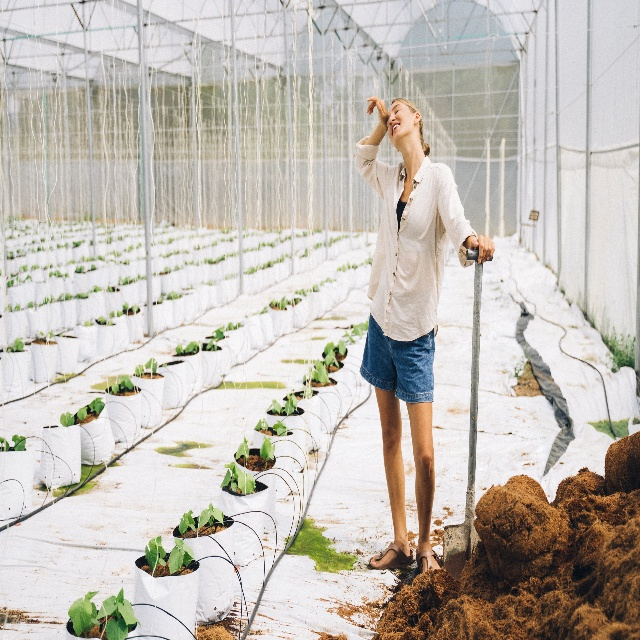Sin_guantes: (366, 96, 388, 132), (469, 235, 495, 265)
